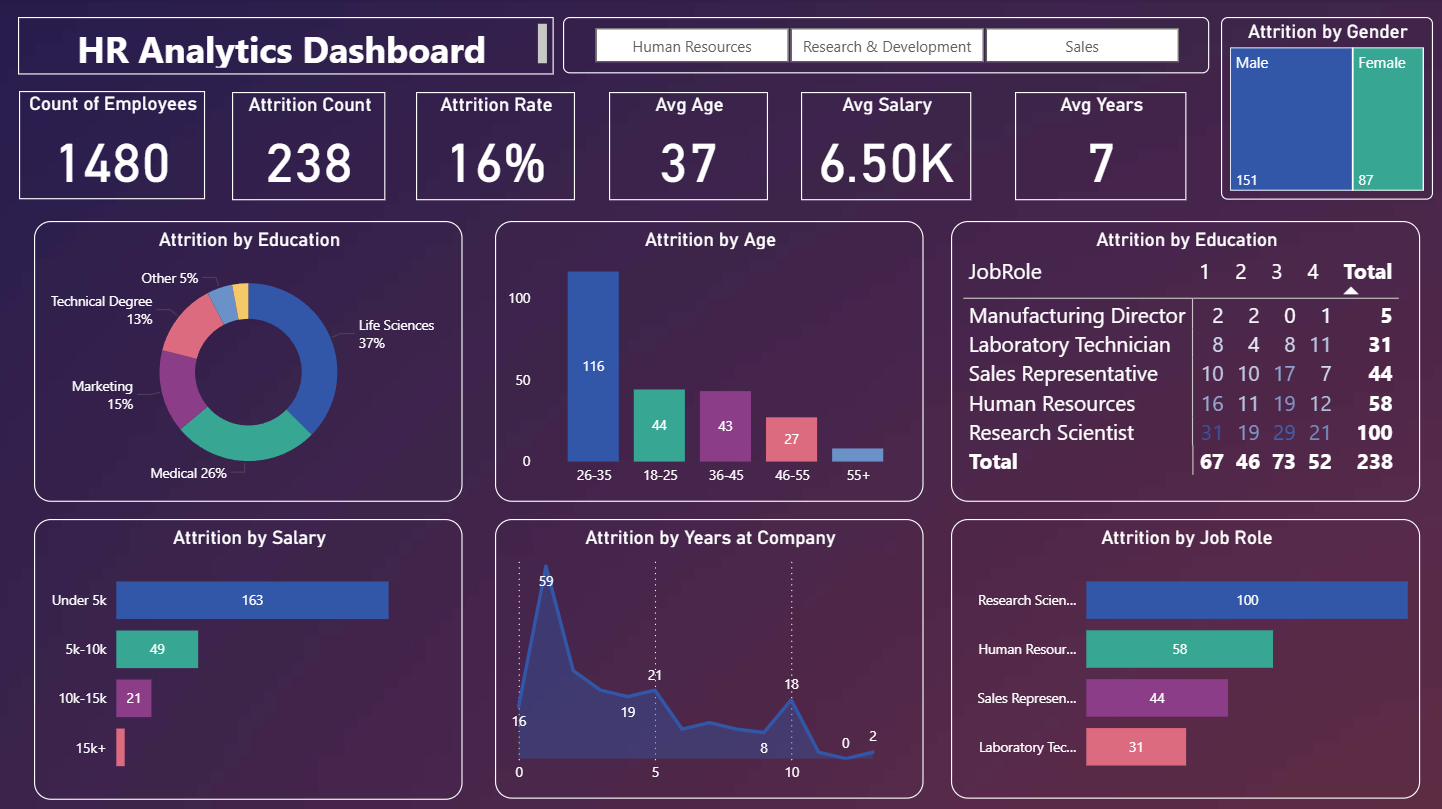

The dashboard page shown, as its layout file describes it:
{"tool":"powerbi","page":{"name":"Page 1","canvas":[1280,720],"ordinal":0},"visuals":[{"type":"card","title":"Count of Employees","fields":{"Values":["CountNonNull(HR_Data.EmpID)"]},"box":[17.4,82,165,96.3],"z":0},{"type":"card","title":"Attrition Count","fields":{"Values":["Sum(HR_Data.Attrition_Count)"]},"box":[206.9,82.2,136.4,95.8],"z":1000},{"type":"card","title":"Attrition Rate","fields":{"Values":["HR_Data.Attrition_Rate"]},"box":[369.5,82.2,140.9,95.8],"z":2000},{"type":"card","title":"Avg Age","fields":{"Values":["Avg(HR_Data.Age)"]},"box":[541.1,82.2,140.9,95.8],"z":3000},{"type":"card","title":"Avg Salary","fields":{"Values":["Avg(HR_Data.MonthlyIncome)"]},"box":[710.9,82.2,150.9,95.8],"z":4000},{"type":"card","title":"Avg Years","fields":{"Values":["Avg(HR_Data.YearsAtCompany)"]},"box":[900.6,82.2,151.8,95.8],"z":5000},{"type":"textbox","box":[17.2,16.3,475.1,50.6],"z":6000},{"type":"slicer","fields":{"Values":["Departments.Department"]},"box":[500.1,16.4,572.9,50.2],"z":7000},{"type":"treemap","title":"Attrition by Gender","fields":{"Values":["Sum(HR_Data.Attrition_Count)"],"Group":["HR_Data.Gender"]},"box":[1083.2,16.4,187.5,161.9],"z":8000},{"type":"donutChart","title":"Attrition by Education","fields":{"Category":["Education.Education"],"Y":["Sum(HR_Data.Attrition_Count)"]},"box":[30.7,196.8,380.2,249],"z":9000},{"type":"barChart","title":"Attrition by Salary","fields":{"Y":["Sum(HR_Data.Attrition_Count)"],"Category":["HR_Data.SalarySlab"],"Series":["HR_Data.SalarySlab"]},"box":[30.7,461.2,380.2,249],"z":10000},{"type":"columnChart","title":"Attrition by Age","fields":{"Y":["Sum(HR_Data.Attrition_Count)"],"Category":["HR_Data.AgeGroup"],"Series":["HR_Data.AgeGroup"]},"box":[439.9,196.9,380.3,249.3],"z":11000},{"type":"pivotTable","title":"Attrition by Education","fields":{"Values":["Sum(HR_Data.Attrition_Count)"],"Rows":["Jobs.JobRole"],"Columns":["HR_Data.JobSatisfaction"]},"box":[843.7,196.9,416.4,249.3],"z":12000},{"type":"areaChart","title":"Attrition by Years at Company","fields":{"Category":["HR_Data.YearsAtCompany"],"Y":["Sum(HR_Data.Attrition_Count)"]},"box":[439.9,460.7,380.3,248.4],"z":13000},{"type":"barChart","title":"Attrition by Job Role","fields":{"Y":["Sum(HR_Data.Attrition_Count)"],"Category":["Jobs.JobRole"],"Series":["Jobs.JobRole"]},"box":[843.7,460.7,416.4,248.4],"z":14000}]}

Visuals, with their boxes in screenshot pixels (x1, y1, x2, y2), scaled from the page's 1280x720 canvas onto the 1442x809 screenshot:
"Count of Employees" card: select_region(20, 92, 205, 200)
"Attrition Count" card: select_region(233, 92, 387, 200)
"Attrition Rate" card: select_region(416, 92, 575, 200)
"Avg Age" card: select_region(610, 92, 768, 200)
"Avg Salary" card: select_region(801, 92, 971, 200)
"Avg Years" card: select_region(1015, 92, 1186, 200)
textbox: select_region(19, 18, 555, 75)
slicer - Departments.Department: select_region(563, 18, 1209, 75)
"Attrition by Gender" treemap: select_region(1220, 18, 1432, 200)
"Attrition by Education" donutChart: select_region(35, 221, 463, 501)
"Attrition by Salary" barChart: select_region(35, 518, 463, 798)
"Attrition by Age" columnChart: select_region(496, 221, 924, 501)
"Attrition by Education" pivotTable: select_region(950, 221, 1420, 501)
"Attrition by Years at Company" areaChart: select_region(496, 518, 924, 797)
"Attrition by Job Role" barChart: select_region(950, 518, 1420, 797)
